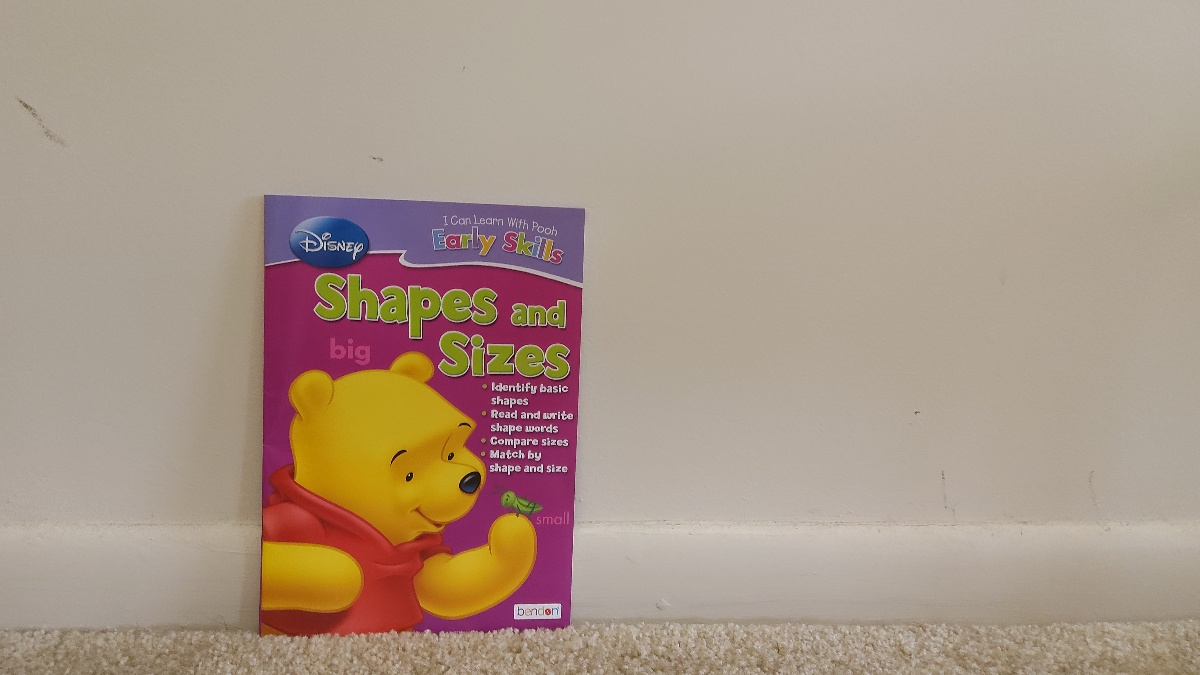book: (265, 199, 573, 625)
